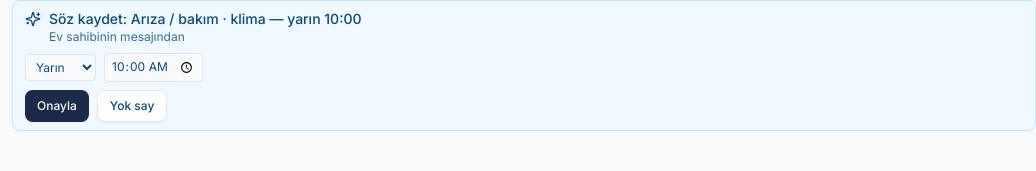
Scenario: eylem önerisi — mevcut söze bağlandı bilgisi › Haiku 10-17: saat geçmişte kaldı (400, alan 'time') → hata gösterilir VE liste yenilenir (öneri artık yoksa kalkar)
Click the button "Onayla" at (57, 106), box 25,90 -> 89,122
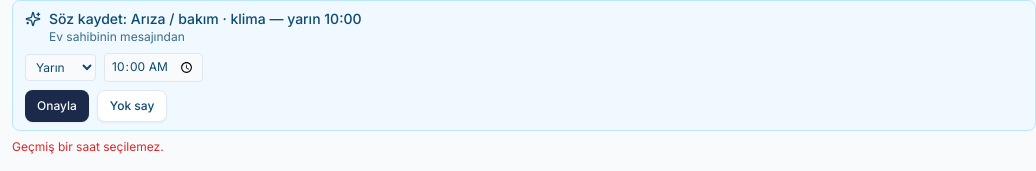
expect the message reads "Geçmiş bir saat seçilemez.": met, box 12,139 -> 164,154
